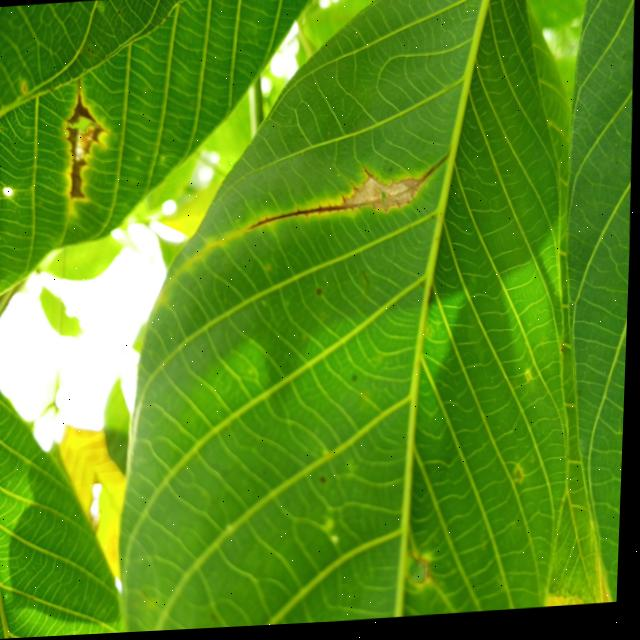Corynespora: (248, 158, 451, 232), (62, 76, 109, 203), (250, 196, 351, 231)
